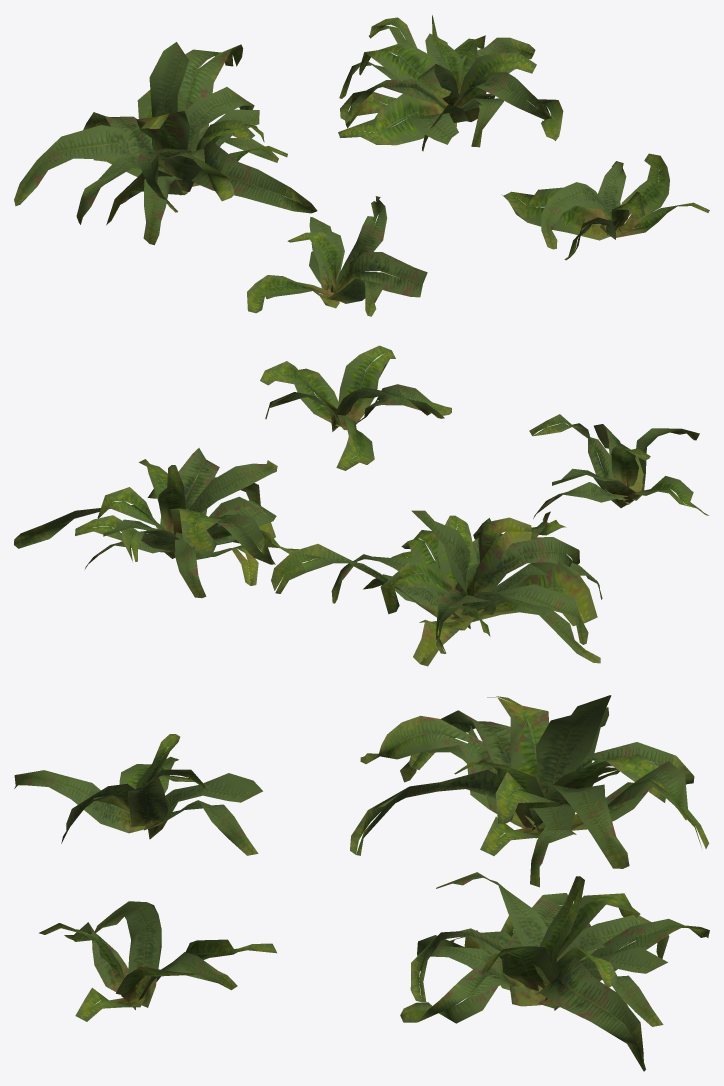
The model's file is ph_fern_02.glb.
3 renders of one model, top to bottom at view 1: azimuth 30°, elevation 25°; view 2: azimuth 150°, elevation 25°; view 3: azimuth 270°, elevation 25°, orthographic. The views are drawn at different scales.
Visible parts, largest first — view 1: fern_02_b, fern_02_c, fern_02_a, fern_02_d; view 2: fern_02_b, fern_02_c, fern_02_d, fern_02_a; view 3: fern_02_b, fern_02_c, fern_02_a, fern_02_d.
Part boxes in pixels (x1,y1,x2,y2): fern_02_b: (14,42,317,245); fern_02_c: (338,15,563,151); fern_02_a: (247,196,427,316); fern_02_d: (501,153,709,260); fern_02_b: (271,510,602,666); fern_02_c: (14,448,309,598); fern_02_d: (260,345,451,470); fern_02_a: (529,414,709,518); fern_02_b: (350,695,709,887); fern_02_c: (400,872,709,1071); fern_02_a: (14,734,262,855); fern_02_d: (39,901,276,1021).
Bounding box in the file's own units: 1.97 × 0.434 × 1.72.
1 material, 1 textured.
